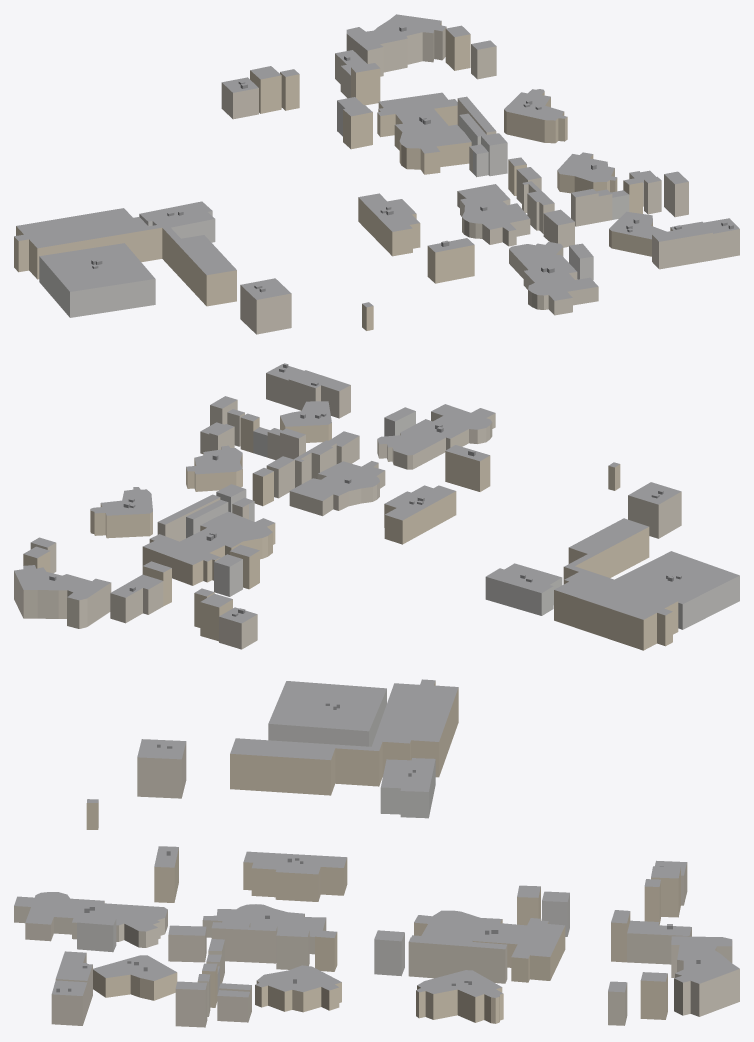
Rendered from building_4_-3.glb.
The picture shows the model from 3 angles, top to bottom: view 1: azimuth 30°, elevation 25°; view 2: azimuth 150°, elevation 25°; view 3: azimuth 270°, elevation 25°; orthographic projection. The views are drawn at different scales.
Visible parts, largest first — view 1: roof, sandstone, concrete_warm, concrete_light; view 2: roof, sandstone, concrete_warm, concrete_light; view 3: roof, sandstone, concrete_warm, concrete_light.
Boxes of the visible parts, x1,y1,x2,y2 form: roof: (14, 14, 739, 307); sandstone: (14, 29, 652, 330); concrete_warm: (221, 21, 739, 334); concrete_light: (39, 101, 629, 317); roof: (14, 363, 739, 623); sandstone: (23, 416, 678, 650); concrete_warm: (14, 373, 681, 649); concrete_light: (186, 411, 739, 629); roof: (14, 679, 739, 997); sandstone: (86, 681, 680, 1023); concrete_warm: (14, 742, 739, 1027); concrete_light: (77, 689, 569, 993).
Bounding box in the file's own units: 269 × 16.7 × 260.
